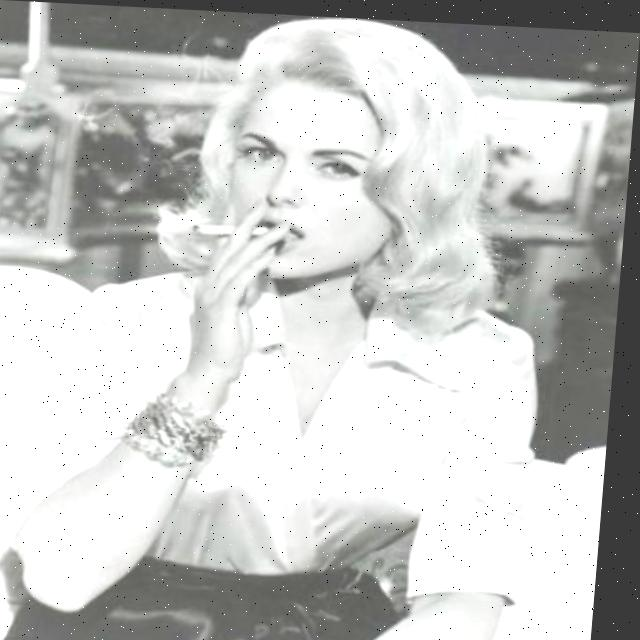cigarette: (191, 217, 279, 239)
